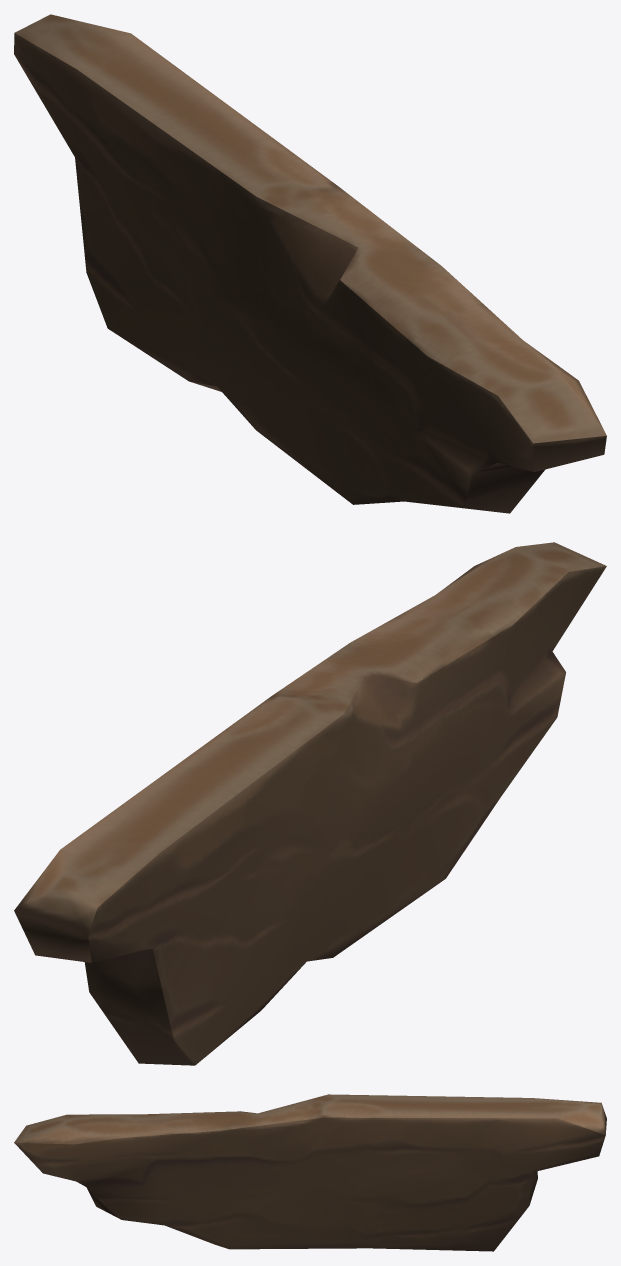
The model's file is SM_FW01_Roadsign_03.fbx.
3 views of the same model, one above another, from view 1: azimuth 30°, elevation 25°; view 2: azimuth 150°, elevation 25°; view 3: azimuth 270°, elevation 25° (orthographic). The views are drawn at different scales.
Parts seen in each view (by area): view 1: SM_FW01_Roadsign_03_LOD0; view 2: SM_FW01_Roadsign_03_LOD0; view 3: SM_FW01_Roadsign_03_LOD0.
Part boxes in pixels (x1,y1,x2,y2): SM_FW01_Roadsign_03_LOD0: [14, 14, 606, 513]; SM_FW01_Roadsign_03_LOD0: [14, 542, 606, 1065]; SM_FW01_Roadsign_03_LOD0: [14, 1094, 606, 1251].
Size of what is drawn, in the model's own units: 0.0981 by 0.2275 by 0.8514.
